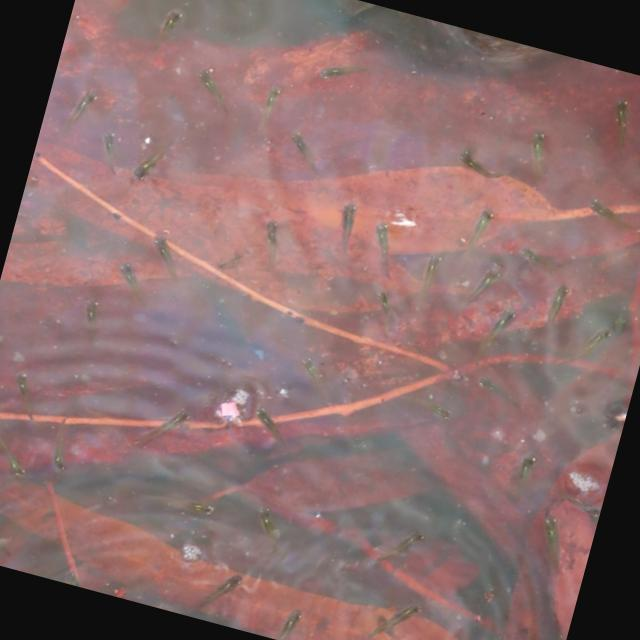Sivrisinek Baligi: (0, 0, 640, 640), (177, 556, 259, 628), (46, 76, 110, 151), (355, 580, 434, 640), (130, 396, 198, 464), (524, 503, 588, 575), (36, 408, 94, 484), (128, 124, 188, 197), (368, 516, 430, 580), (98, 252, 167, 308), (360, 215, 418, 281), (182, 59, 246, 118), (242, 498, 304, 558), (141, 227, 199, 289), (325, 186, 371, 264), (0, 360, 56, 424), (393, 381, 470, 427), (139, 0, 194, 64), (570, 188, 640, 238), (408, 242, 458, 311), (362, 286, 421, 344), (514, 126, 574, 182), (455, 203, 509, 264), (250, 73, 300, 138), (446, 141, 518, 186), (241, 399, 299, 454), (464, 371, 534, 416), (68, 290, 119, 348), (252, 220, 304, 276), (83, 120, 133, 178), (288, 353, 346, 403), (284, 125, 338, 177), (504, 439, 547, 498), (310, 54, 368, 95), (264, 593, 314, 640), (0, 426, 44, 479), (599, 95, 640, 150)
